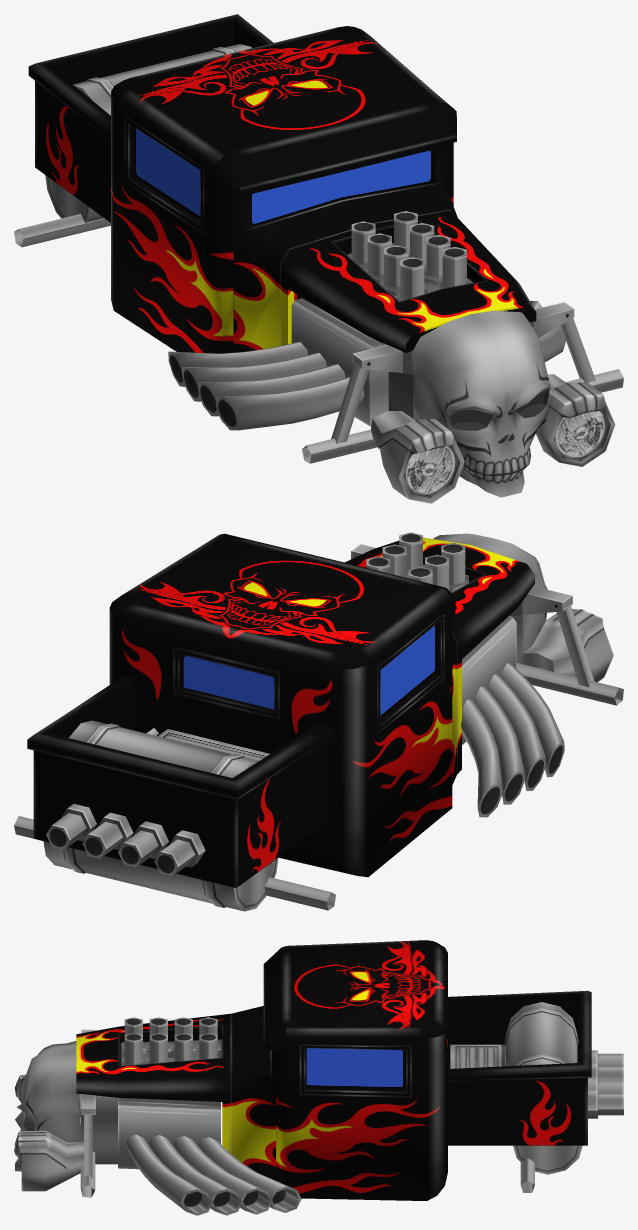
File: skullcar.FBX
The picture shows the model from 3 angles, top to bottom: view 1: azimuth 30°, elevation 25°; view 2: azimuth 150°, elevation 25°; view 3: azimuth 270°, elevation 25°; orthographic projection. The views are drawn at different scales.
Parts seen in each view (by area): view 1: skullcar; view 2: skullcar; view 3: skullcar.
Boxes of the visible parts, x1,y1,x2,y2 form: skullcar: [14, 14, 623, 503]; skullcar: [14, 532, 623, 911]; skullcar: [14, 940, 623, 1215].
Bounding box in the file's own units: 0.2593 × 0.1772 × 0.5356.
